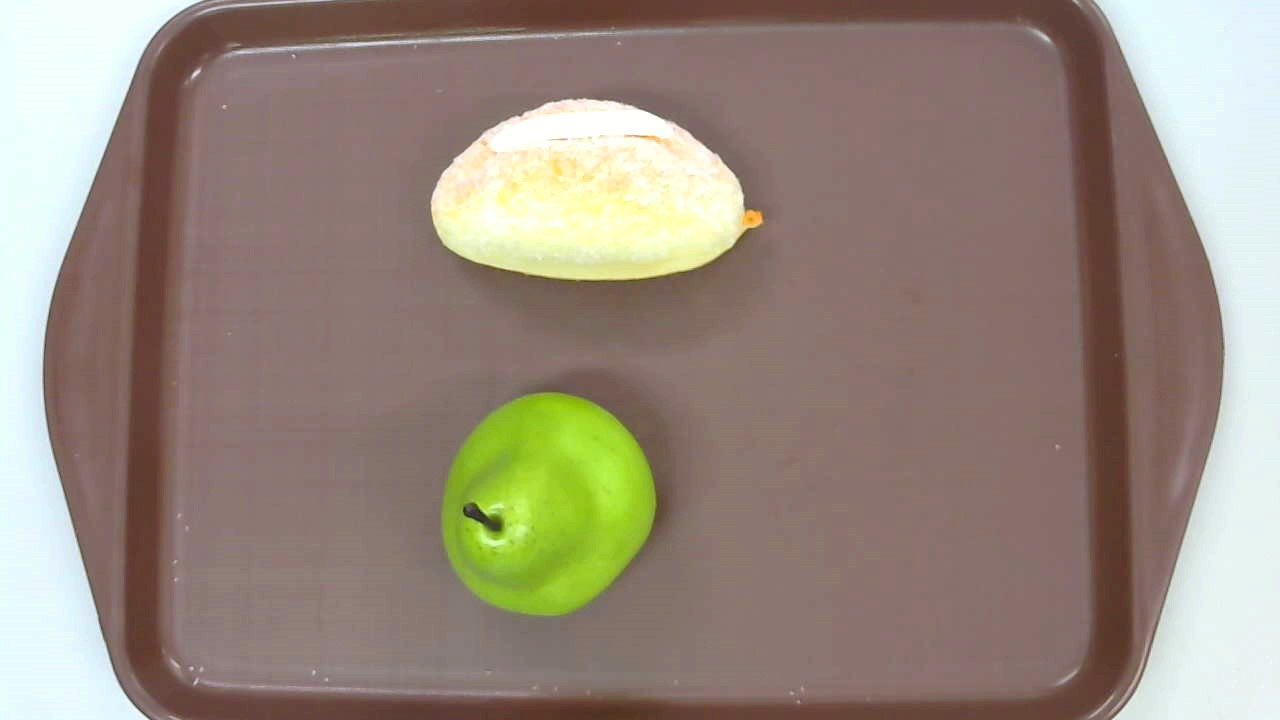coconut: (430, 98, 764, 283)
green pear: (442, 391, 659, 617)
